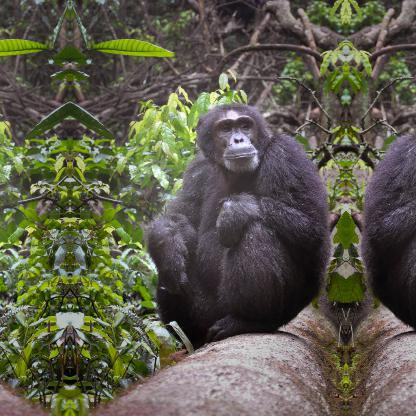Monkey: (146, 101, 328, 346), (361, 101, 415, 347)
